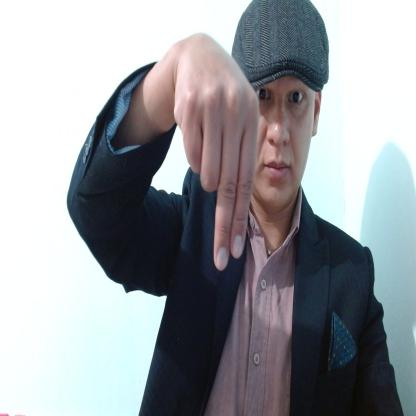N: (174, 33, 261, 274)
